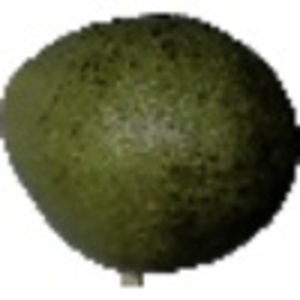abacate: (1, 7, 295, 275)
